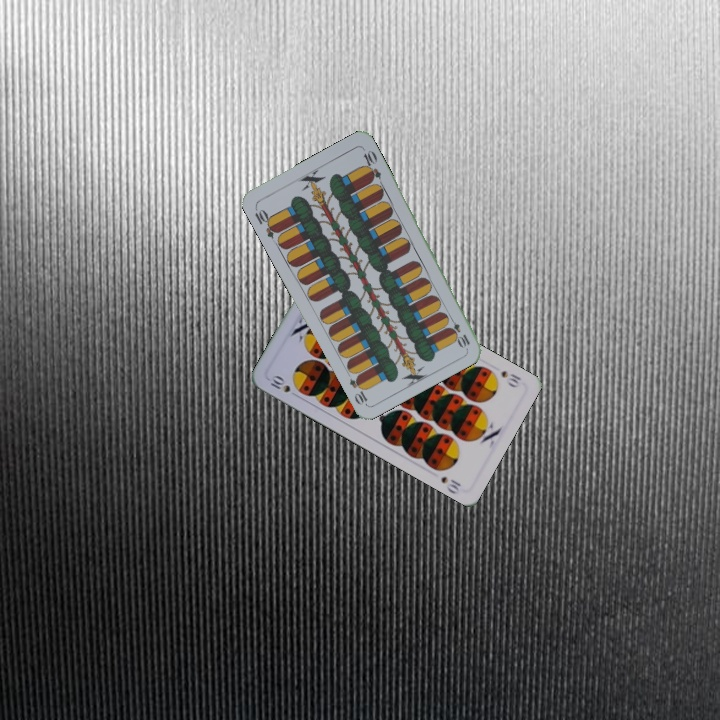E10: (251, 203, 281, 241), (444, 312, 473, 350)
S10: (265, 371, 302, 400), (497, 366, 523, 390)
